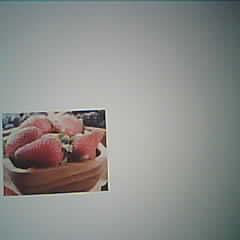straw-ripe: (15, 134, 63, 168)
